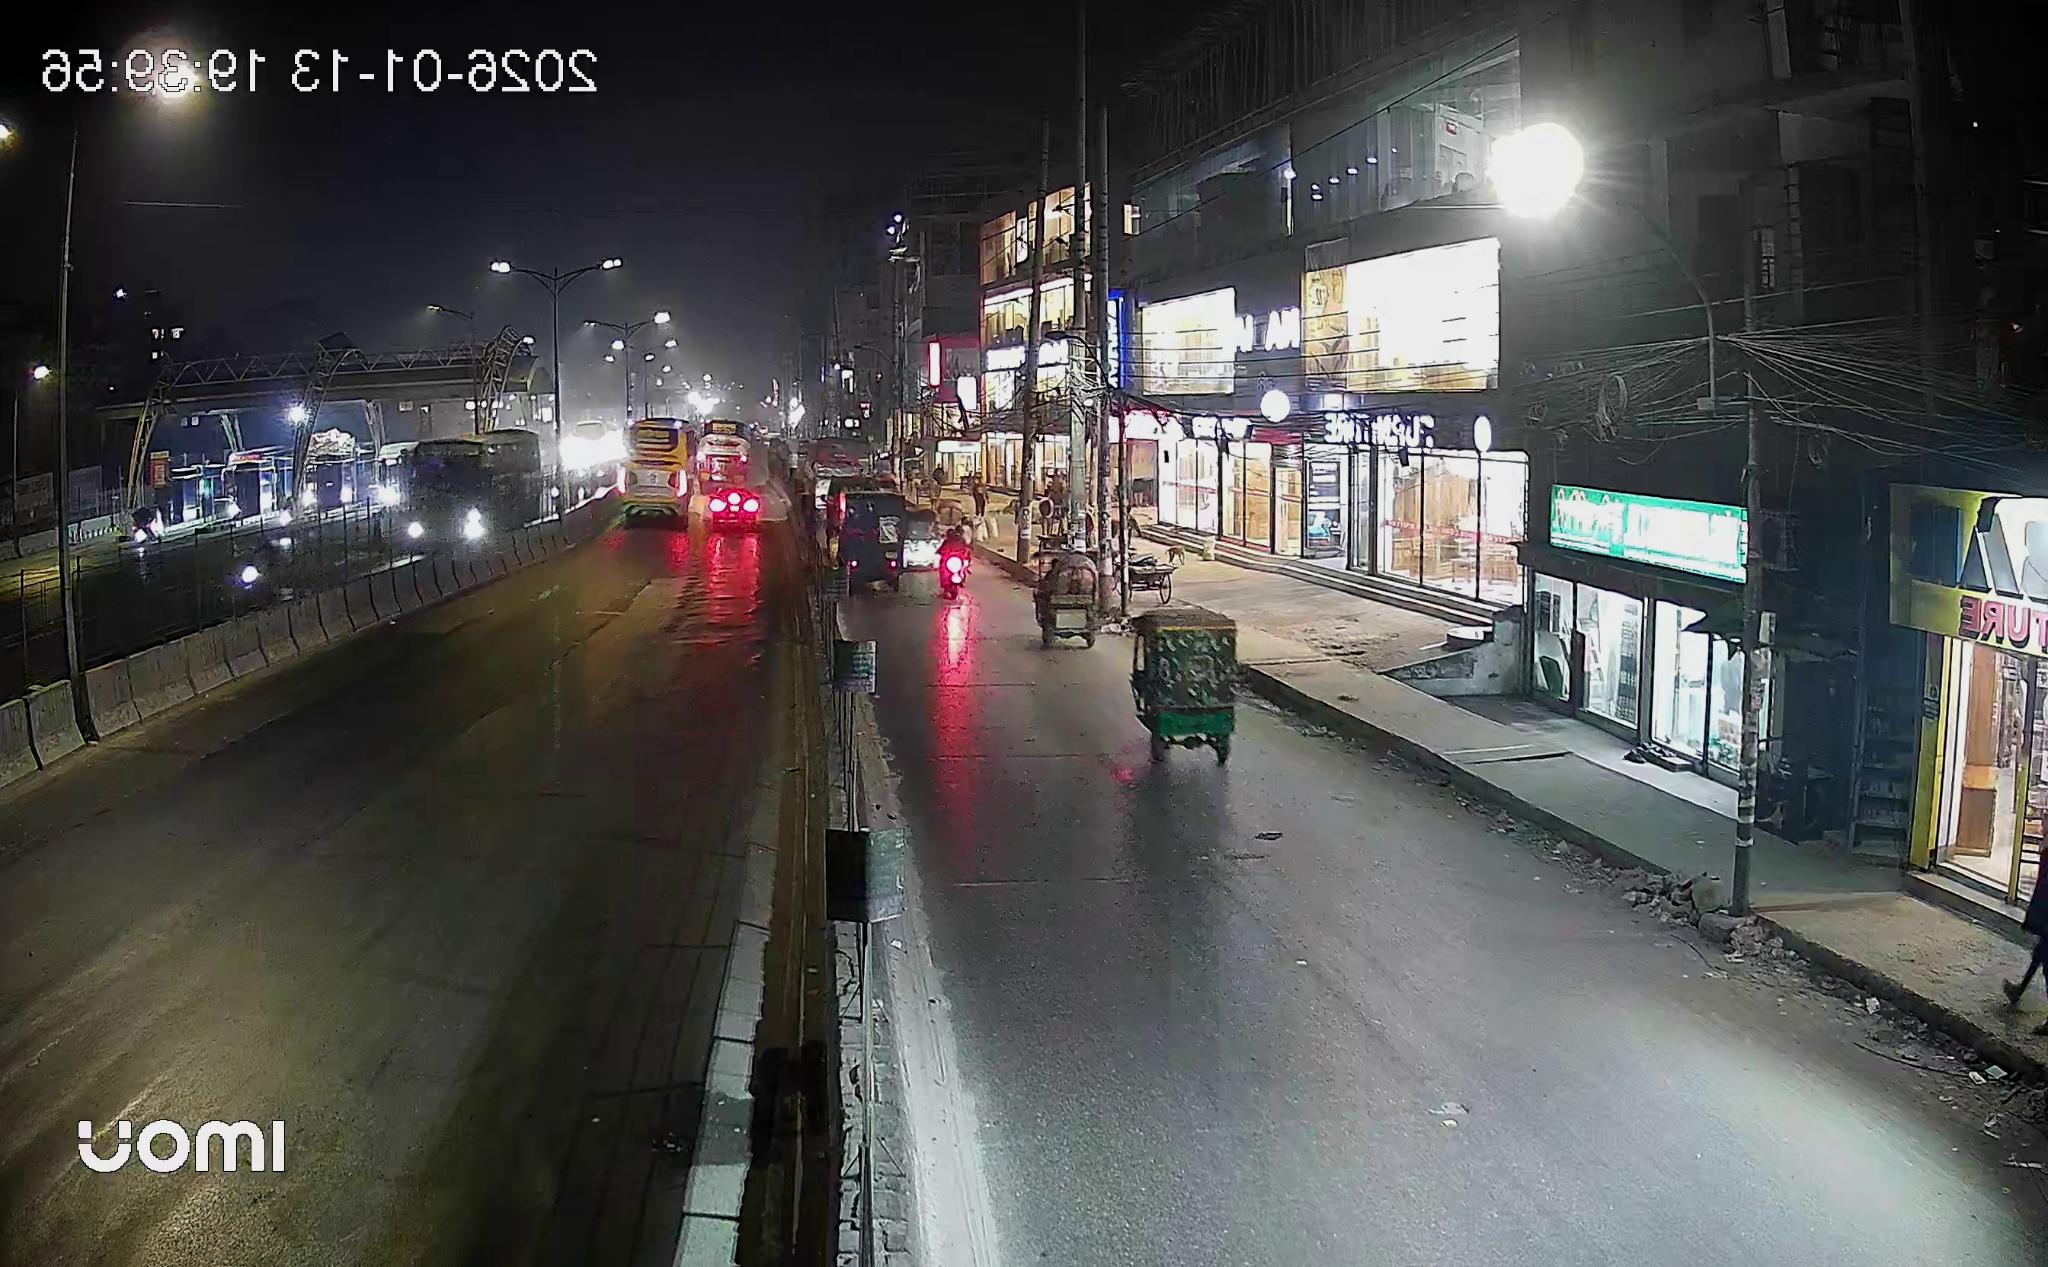Auto Rickshaw: (1125, 600, 1236, 764), (1034, 550, 1099, 647)
Bus: (410, 430, 559, 540), (614, 420, 750, 518)
Motorcycle: (938, 528, 973, 598)
Private-Sedan Car: (708, 487, 761, 530)
Truck: (835, 490, 906, 590)
